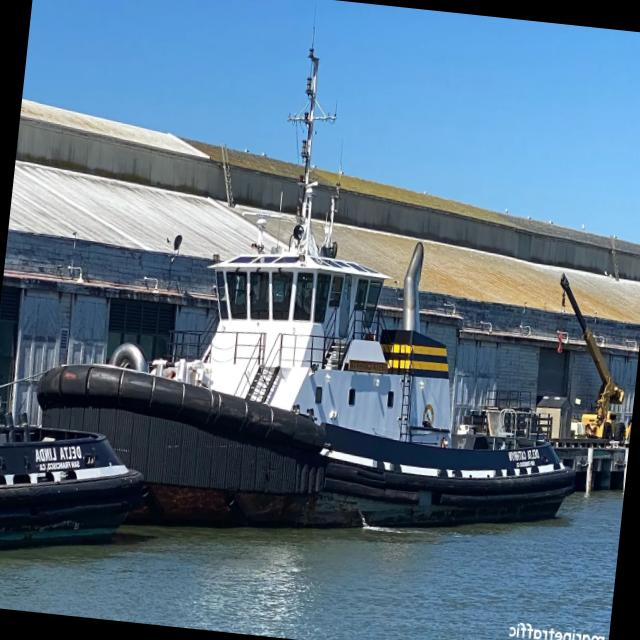Tug: (37, 48, 574, 527)
